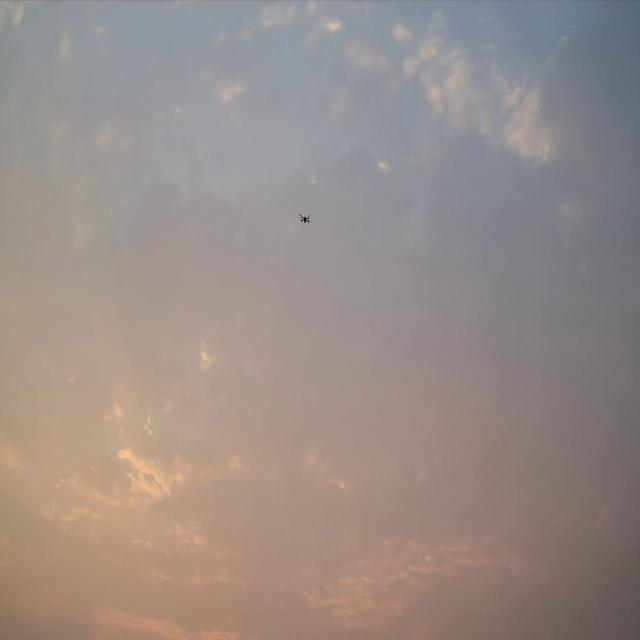UAV: (298, 211, 313, 225)
